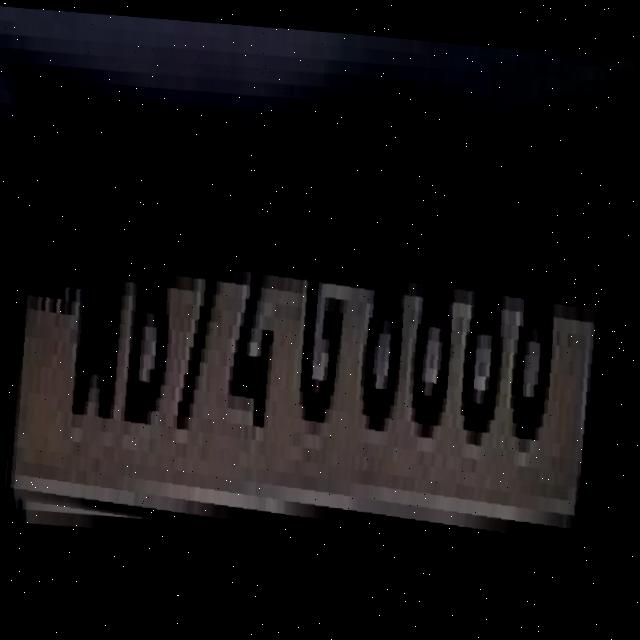LicensePlate: (4, 118, 607, 573)
